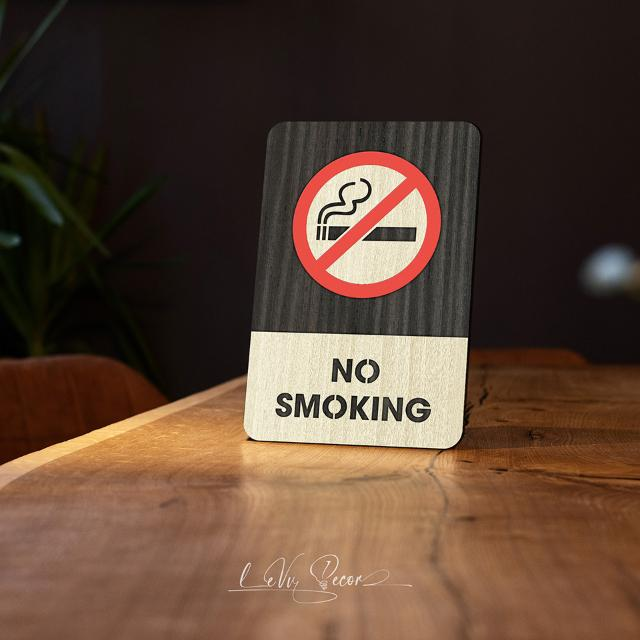cam hut thuoc: (244, 122, 480, 448)
